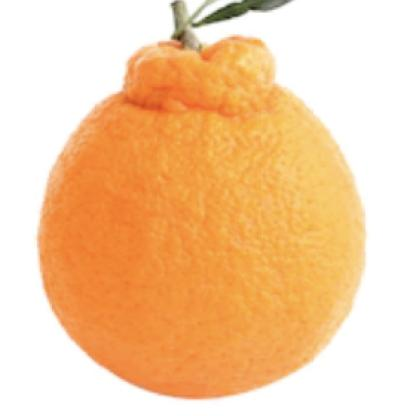fresh: (35, 32, 364, 405)
